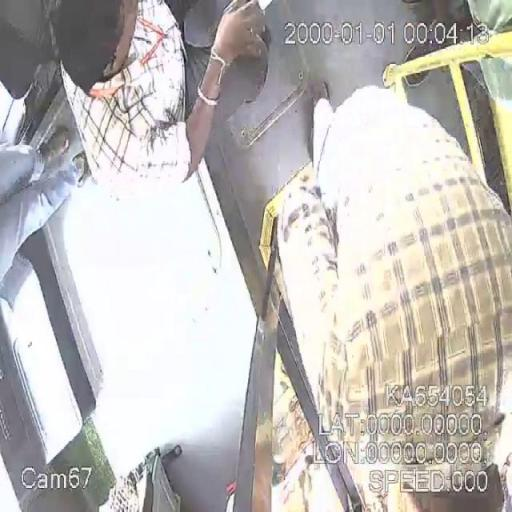persona: (260, 83, 511, 511), (41, 1, 270, 187)
